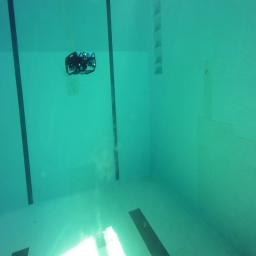front: (65, 51, 96, 75)
